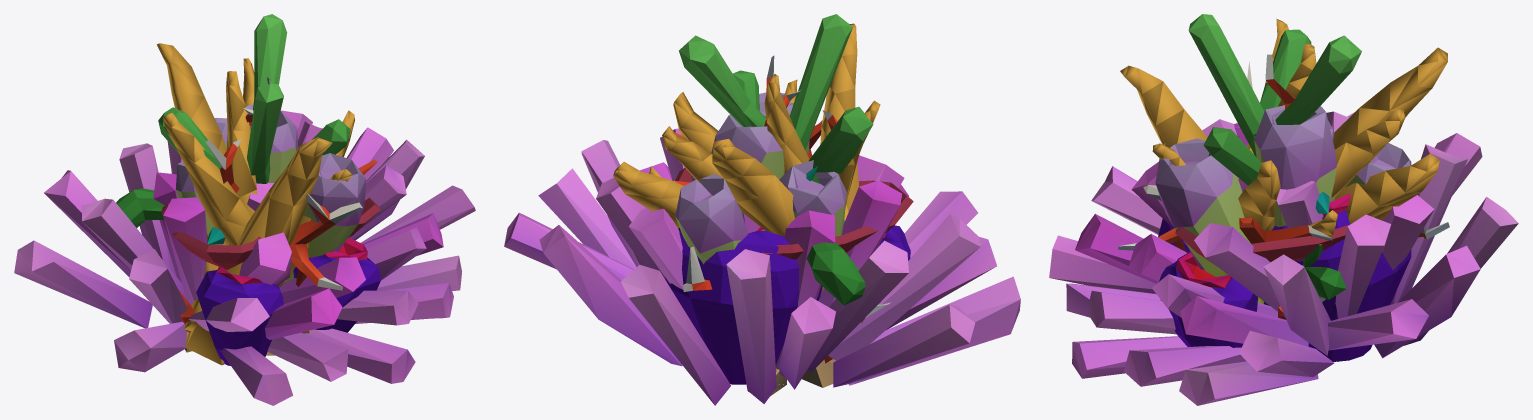
File: reef_corals.glb
The picture shows the model from 3 angles, left to right: view 1: azimuth 30°, elevation 25°; view 2: azimuth 150°, elevation 25°; view 3: azimuth 270°, elevation 25°; orthographic projection. The views are drawn at different scales.
Parts seen in each view (by area): view 1: coral_anemone, coral_fan, coral_branch, coral_tube, coral_bubble, coral_redbranch, coral_plate; view 2: coral_anemone, coral_fan, coral_branch, coral_tube, coral_bubble, coral_redbranch, coral_plate; view 3: coral_anemone, coral_fan, coral_tube, coral_branch, coral_bubble, coral_redbranch, coral_plate.
Boxes of the visible parts, box(x1,y1,x2,y2) form: coral_anemone: box(14, 110, 475, 405); coral_fan: box(156, 43, 354, 365); coral_branch: box(116, 14, 350, 227); coral_tube: box(175, 104, 365, 282); coral_bubble: box(196, 238, 380, 365); coral_redbranch: box(178, 77, 377, 355); coral_plate: box(161, 197, 380, 269); coral_anemone: box(504, 128, 1020, 405); coral_fan: box(613, 23, 880, 291); coral_branch: box(679, 14, 873, 305); coral_tube: box(675, 92, 846, 264); coral_bubble: box(665, 225, 910, 384); coral_redbranch: box(674, 55, 890, 396); coral_plate: box(675, 168, 913, 259); coral_anemone: box(1049, 111, 1518, 405); coral_fan: box(1120, 19, 1447, 240); coral_tube: box(1155, 105, 1411, 361); coral_branch: box(1188, 14, 1361, 299); coral_bubble: box(1158, 193, 1411, 361); coral_redbranch: box(1118, 54, 1449, 319); coral_plate: box(1175, 224, 1350, 265).
Size of the model in its own units: 1.42 by 0.95 by 1.21.
